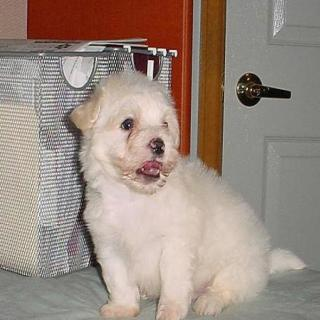dog: (62, 65, 185, 204)
nose: (144, 134, 169, 156)
